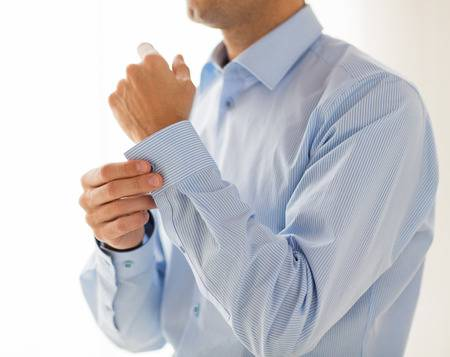F_shirt: (79, 7, 441, 357)
